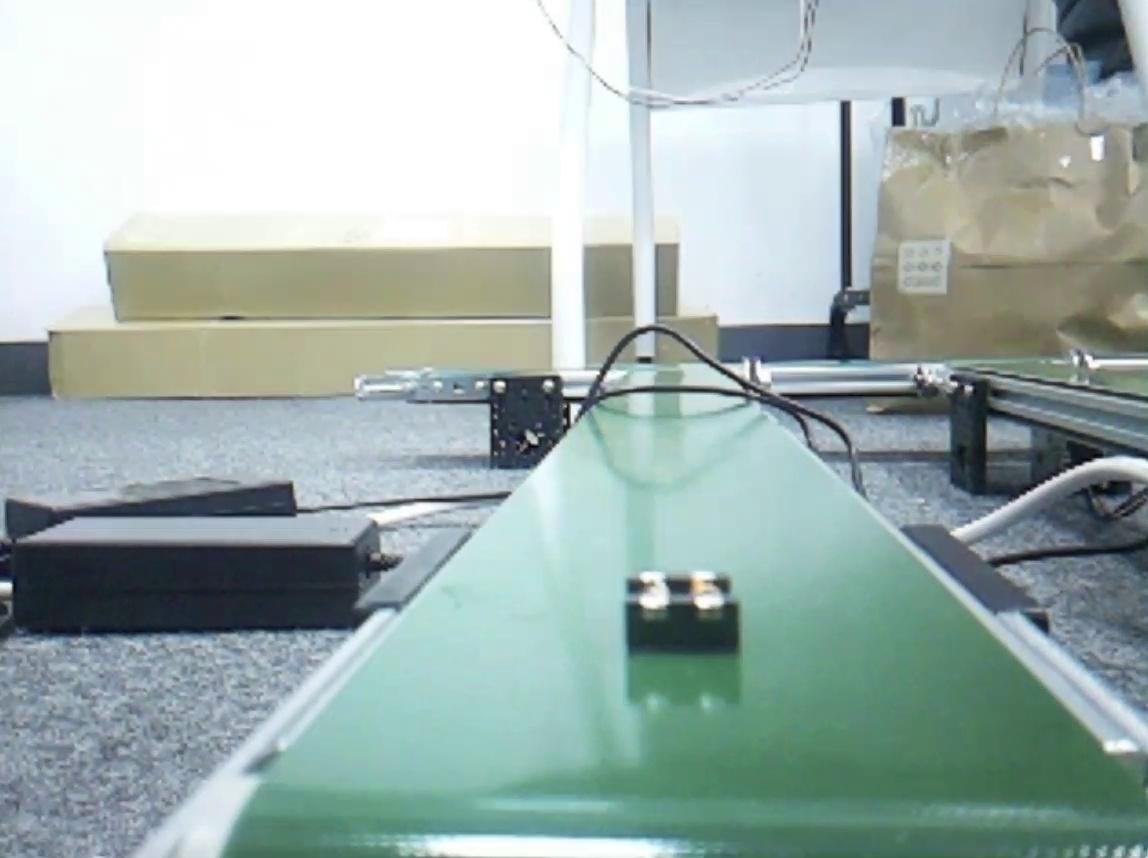inductor: (628, 567, 739, 657)
